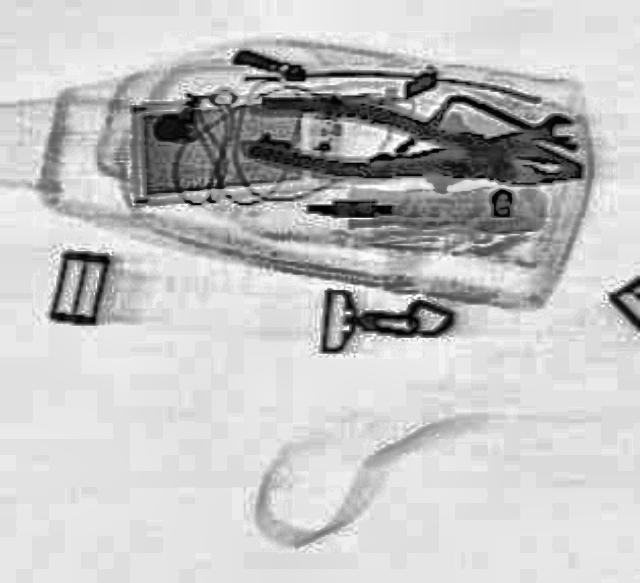Pliers: (245, 82, 588, 210)
